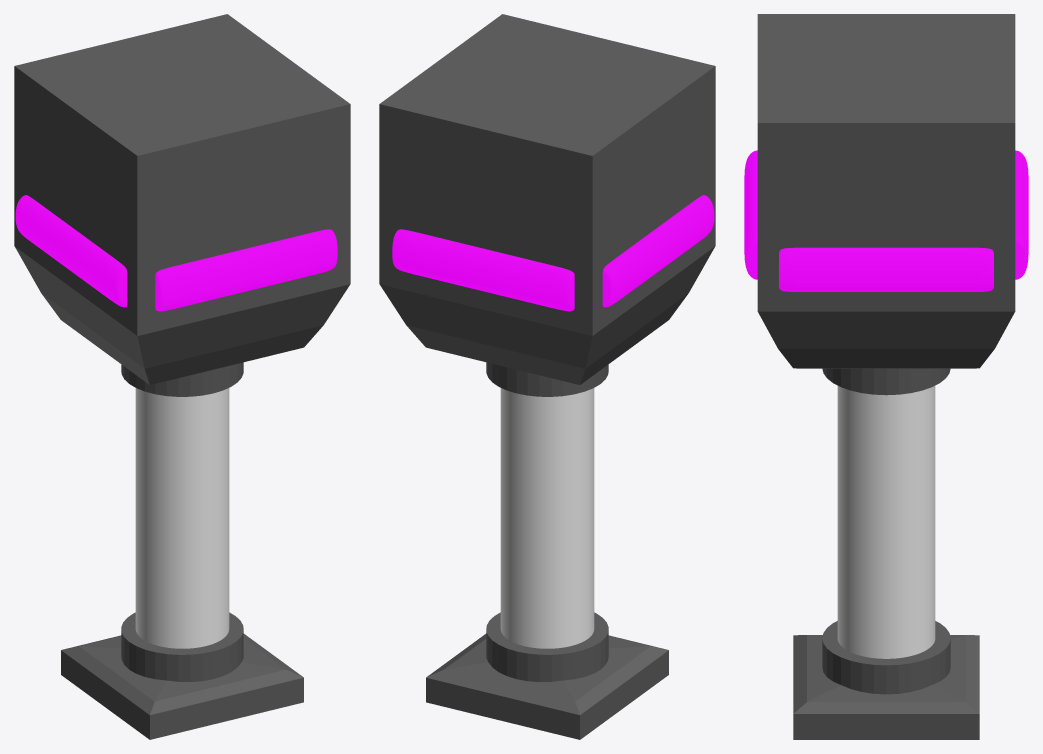
File: artefact_001.glb
3 views of the same model, side by side, from view 1: azimuth 30°, elevation 25°; view 2: azimuth 150°, elevation 25°; view 3: azimuth 270°, elevation 25° (orthographic). The views are drawn at different scales.
Visible parts, largest first — view 1: Object.028; view 2: Object.028; view 3: Object.028.
Part boxes in pixels (box(x1,y1,x2,y2)): Object.028: box(14, 14, 350, 739); Object.028: box(379, 14, 715, 739); Object.028: box(744, 14, 1028, 739).
Bounding box in the file's own units: 46.69 × 115 × 46.69.
